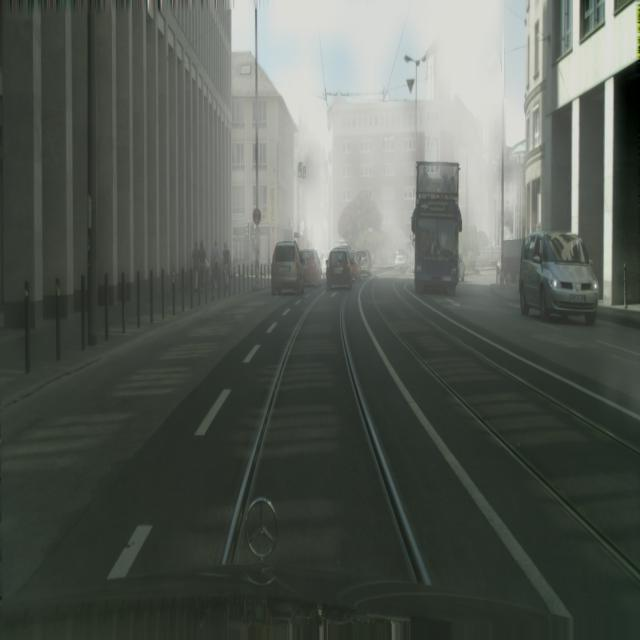motorcycle: (412, 162, 462, 296)
person: (211, 240, 220, 299), (222, 242, 231, 298), (199, 240, 208, 296), (191, 241, 199, 292)
truck: (518, 230, 599, 326), (271, 242, 305, 297), (326, 246, 352, 290), (299, 248, 322, 286), (355, 249, 371, 277), (348, 249, 360, 280), (394, 252, 407, 268)
